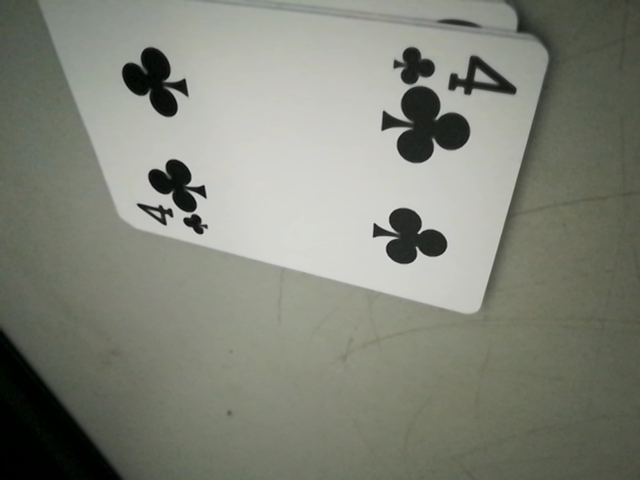mh 4: (391, 37, 520, 96), (127, 199, 211, 237)
